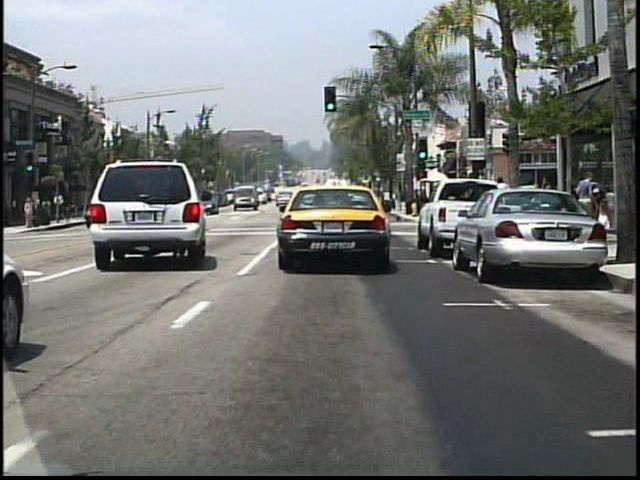person: (576, 171, 597, 233), (538, 175, 559, 237), (595, 196, 613, 240), (24, 195, 37, 231), (53, 190, 65, 222)
